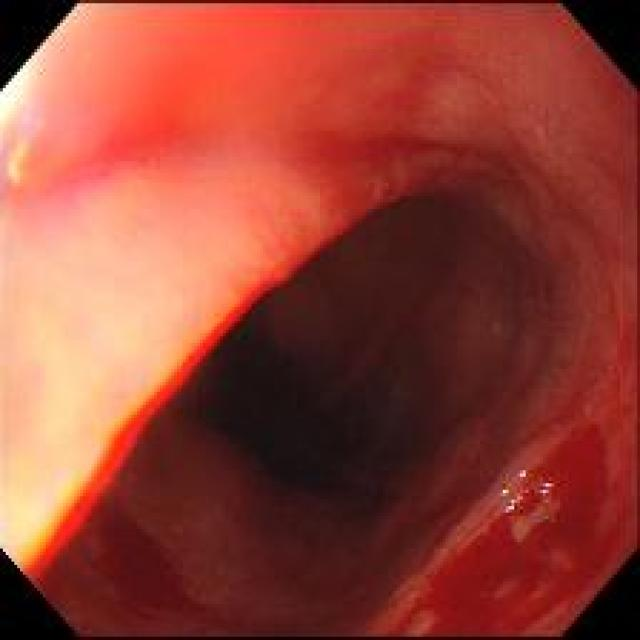blood: (387, 424, 628, 637)
color misalignment: (18, 248, 318, 590), (496, 479, 559, 513), (517, 470, 530, 480)
contrast: (207, 334, 393, 520)
saturation: (3, 58, 38, 123)
specularity: (507, 501, 516, 511), (543, 485, 550, 497), (502, 491, 508, 496), (521, 474, 526, 477)
